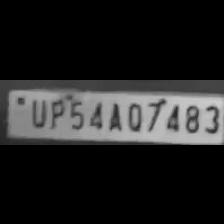3: (200, 100, 222, 134)
4: (161, 99, 181, 134), (84, 96, 104, 130)
5: (65, 94, 84, 130)
7: (142, 97, 162, 132)
8: (182, 101, 200, 133)
A: (103, 99, 123, 131)
P: (46, 96, 64, 128)
Q: (122, 99, 144, 131)
U: (27, 95, 47, 127)
